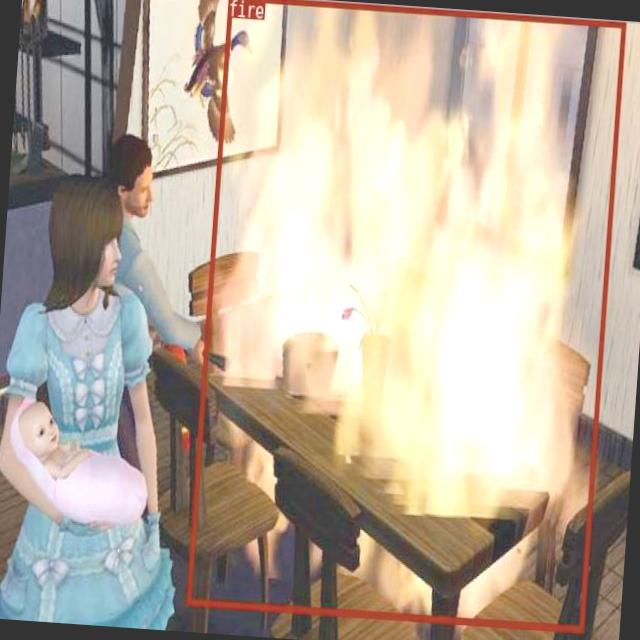fire: (185, 0, 625, 630)
